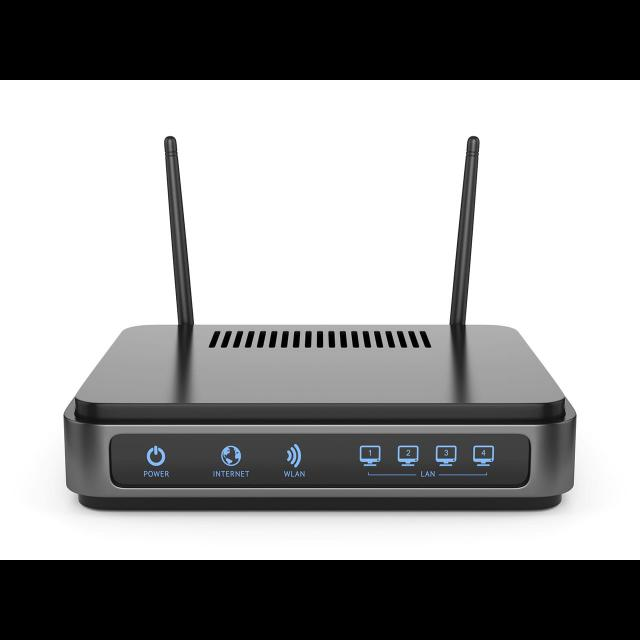Router: (64, 134, 578, 514)
